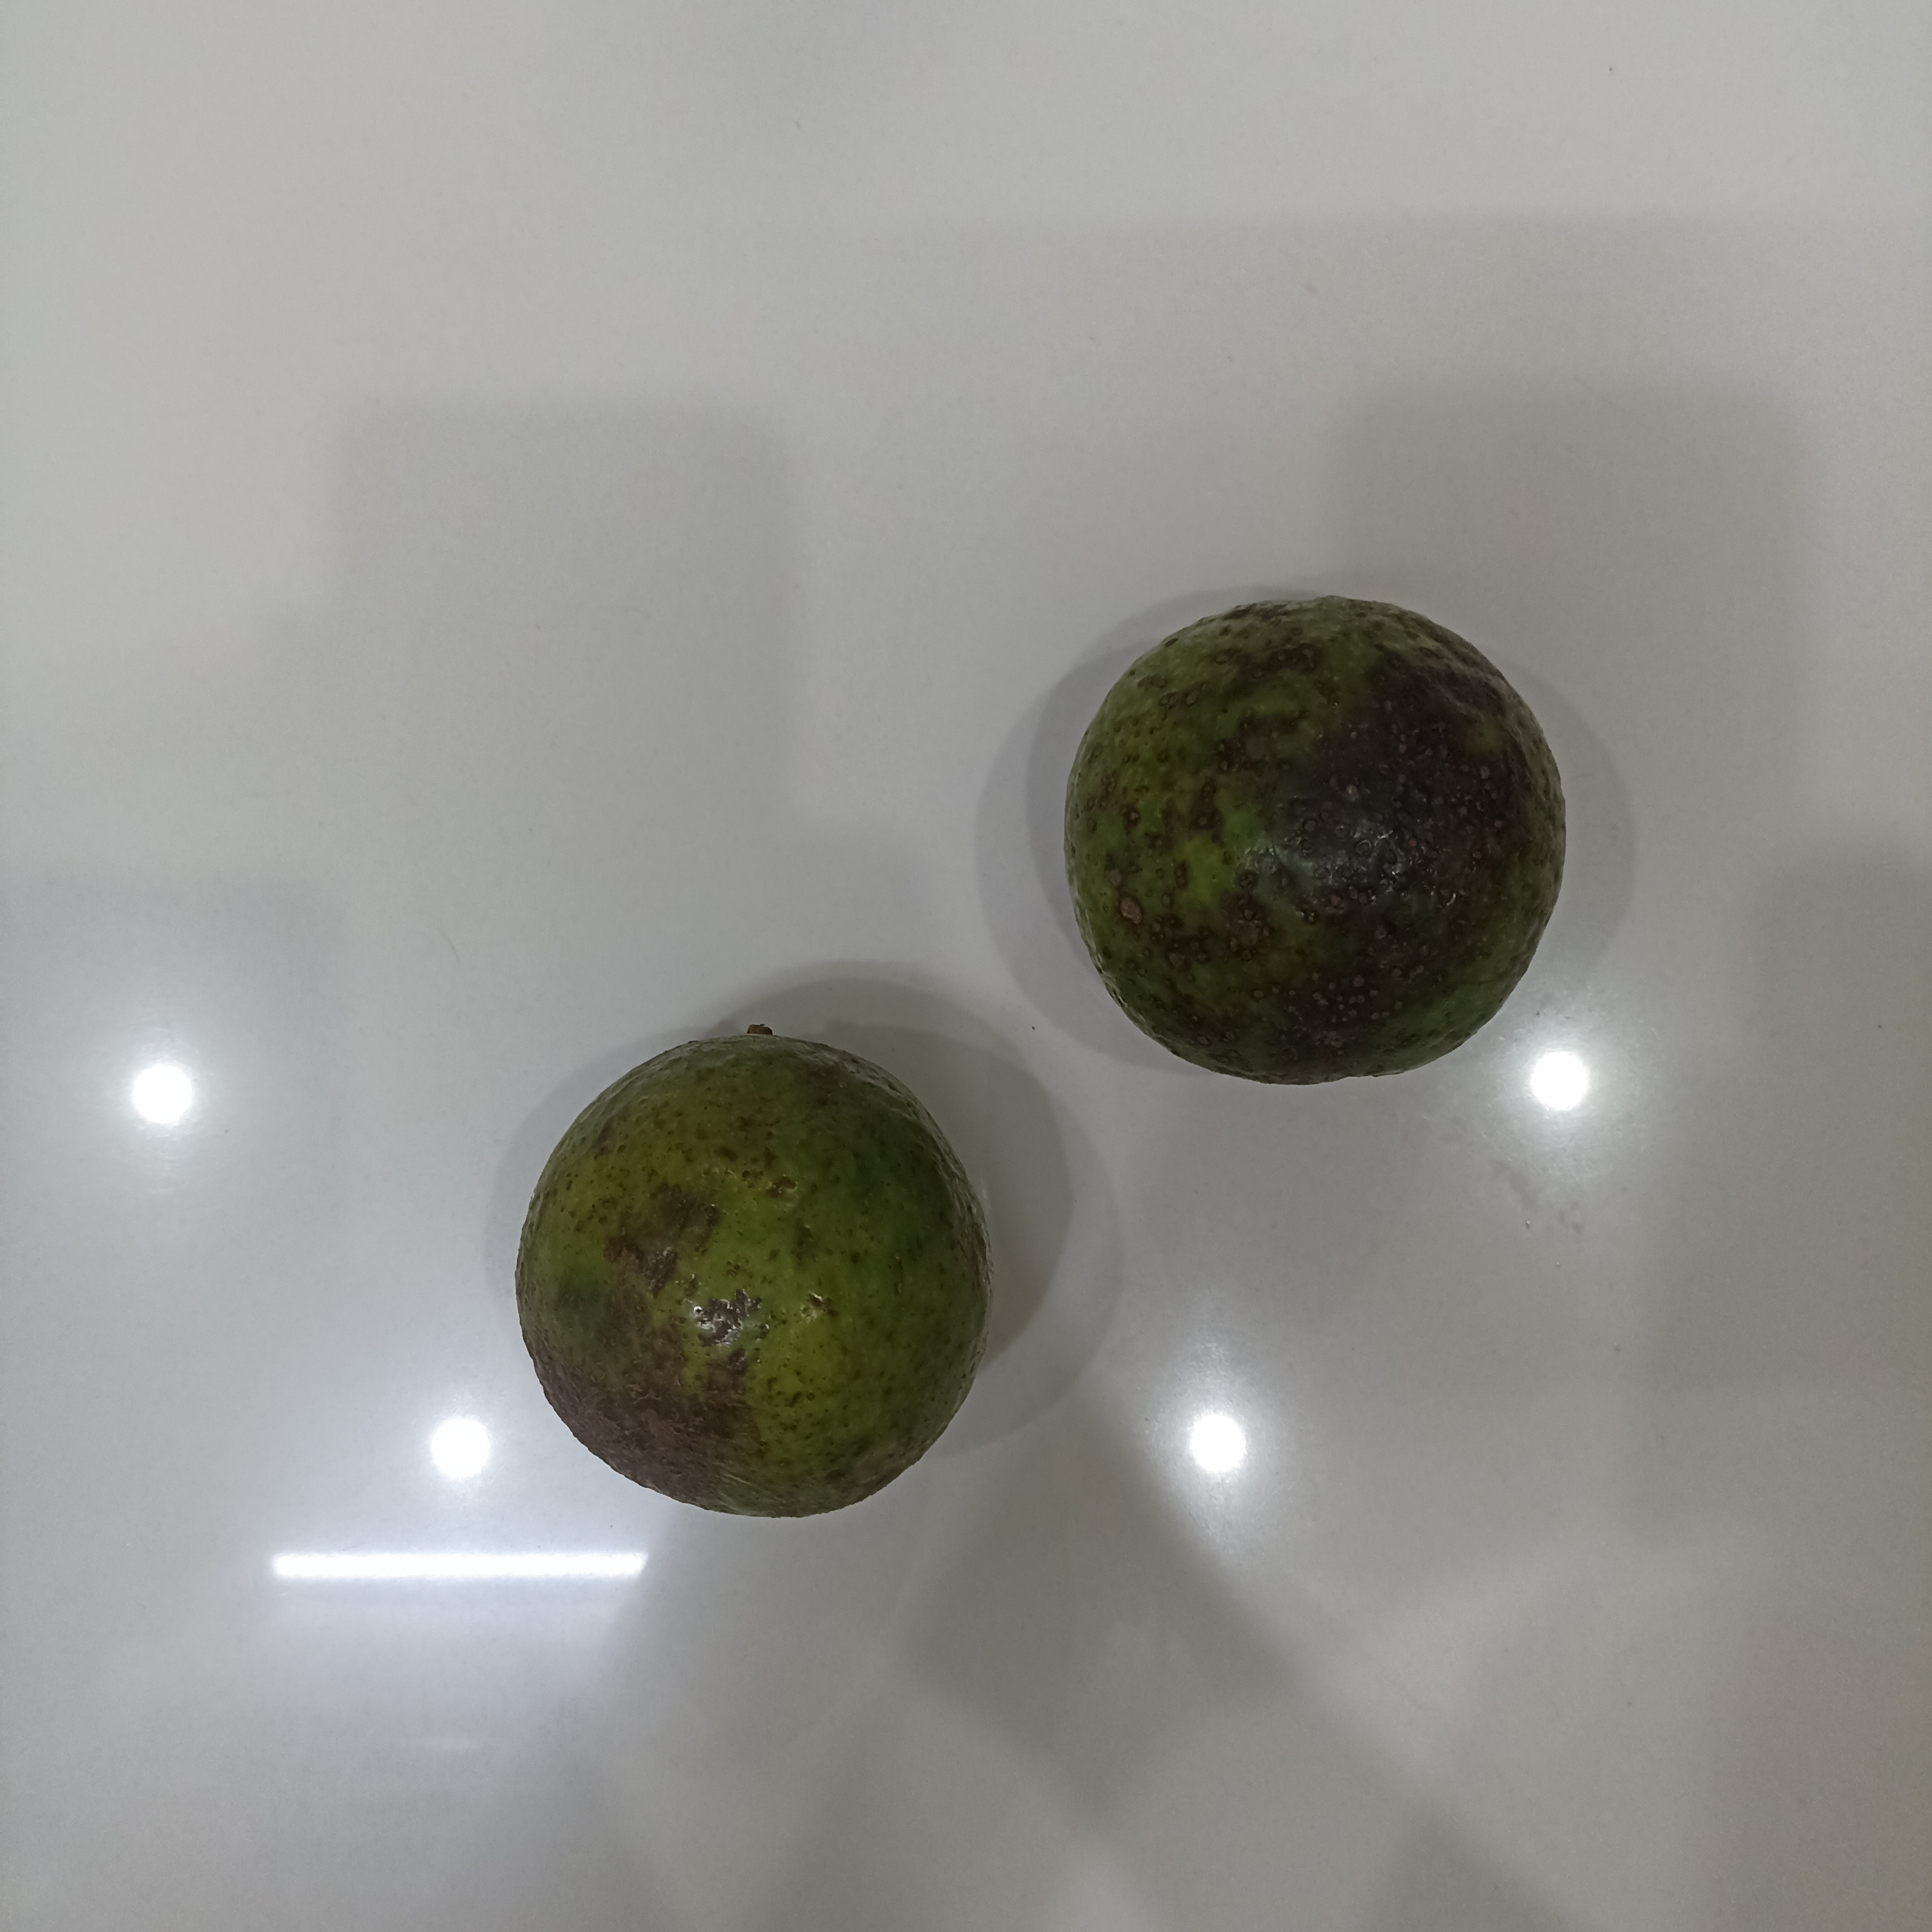Bo: (1057, 590, 1572, 1100), (512, 1027, 987, 1520)
